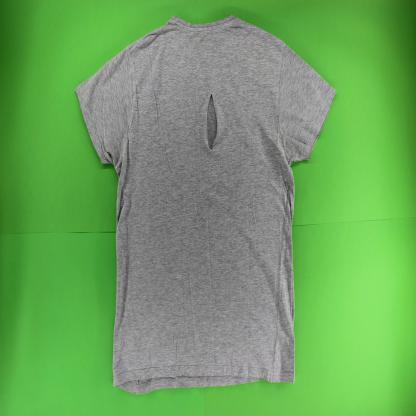hole: (204, 89, 220, 154)
